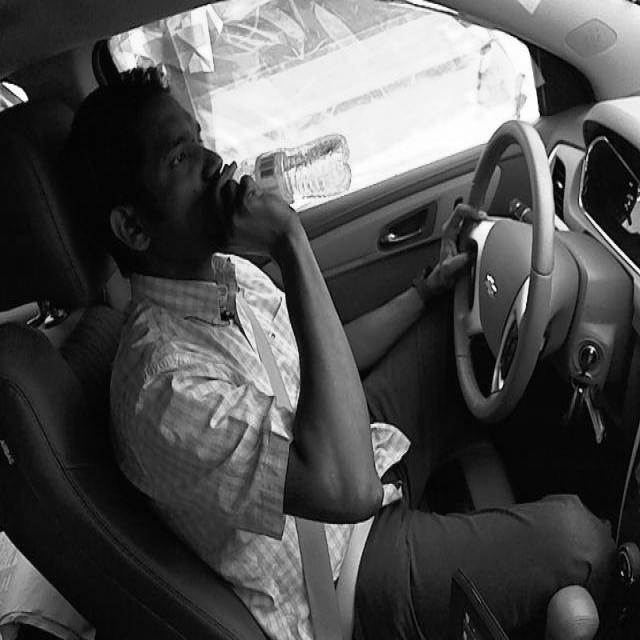Drinking: (212, 131, 350, 200)
